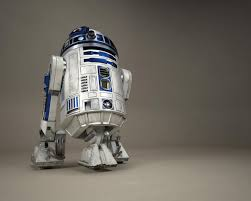r2d2: (30, 26, 131, 169)
